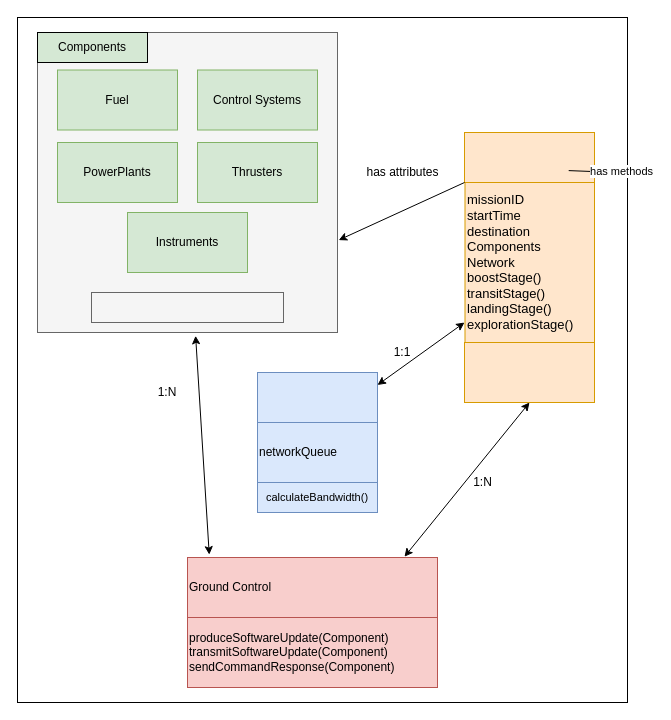
The diagram is 671 pixels wide and 720 high, and some of its shapes have lost their labels. Here are the shapes that lost their labels. From the top down, the centre of each, then its label:
pixel 529 157: Mission N
pixel 187 307: transmitTelemetry(Component)
pixel 529 372: checkComponentFailure() checkforResolution()
pixel 317 397: Network N
